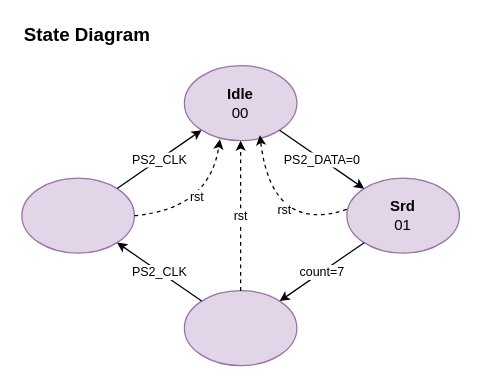
Some shapes in this 481 by 388 pixel diagram are drawn without their labels. The shapes that lost their labels are listed below. From the top down, each one's centre as x and y in pixels, then its label:
pixel 77 215: Srs 11
pixel 240 327: Srp 10
